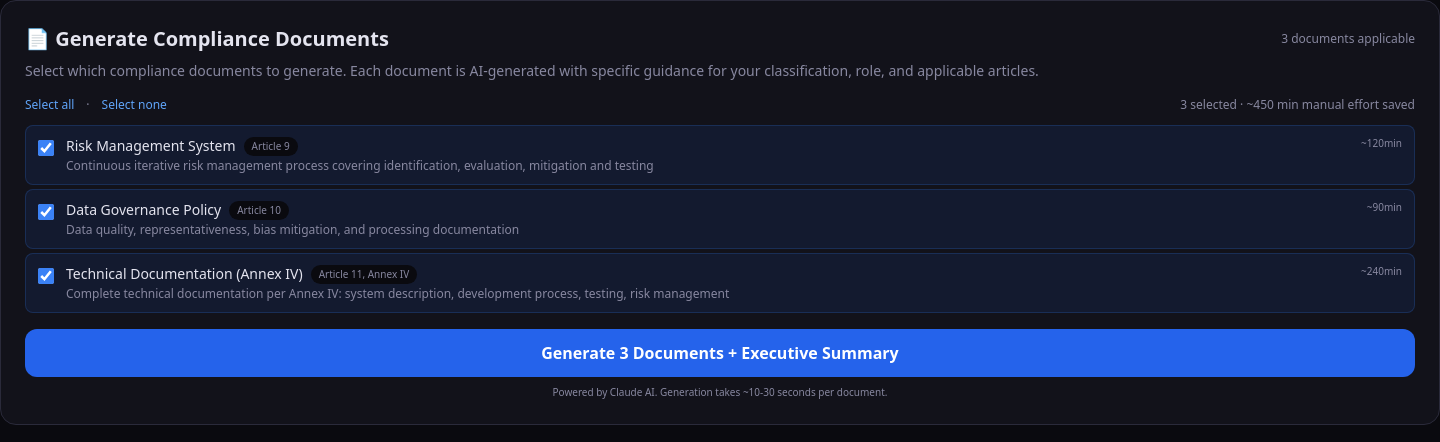
L6-DG-I: Idle template selection › DG-I07: 'Select none' button deselects all templates
Click the button "Select none" at [134, 105], box [102,97,167,113]
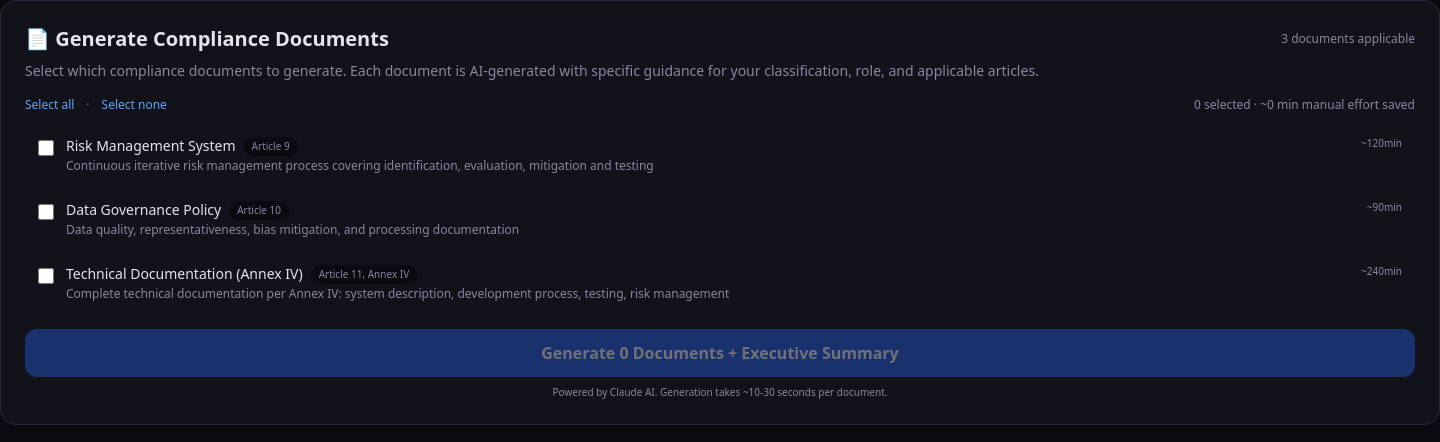
Check: the 1st checkbox is not checked, box [38,140,54,156]
Check: the 2nd checkbox is not checked, box [38,204,54,220]
Check: the 3rd checkbox is not checked, box [38,268,54,284]
